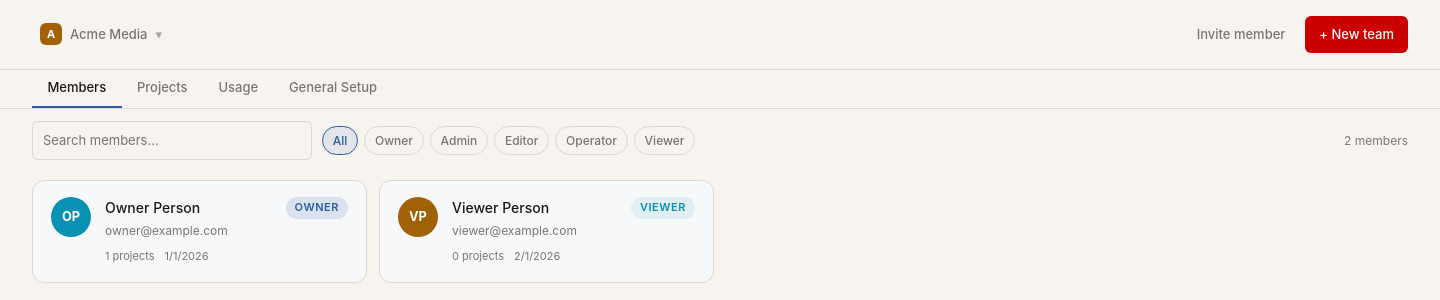
TeamPage — with a team › filters members by search text
The width and height of the screenshot is (1440, 300).
expect the text "Owner Person" is shown: met, box [105,197,200,219]
Step 1. Type "viewer" into the field with placeholder "Search members…" → {"x": 172, "y": 140}, box [32,121,312,160]
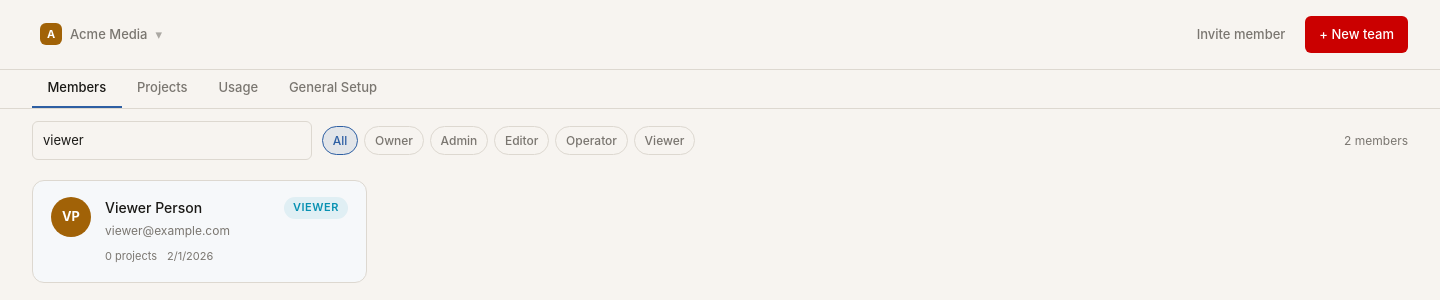
expect the text "Viewer Person" is shown: met, box [105,197,202,219]
expect the button "Owner Person" is gone: met
